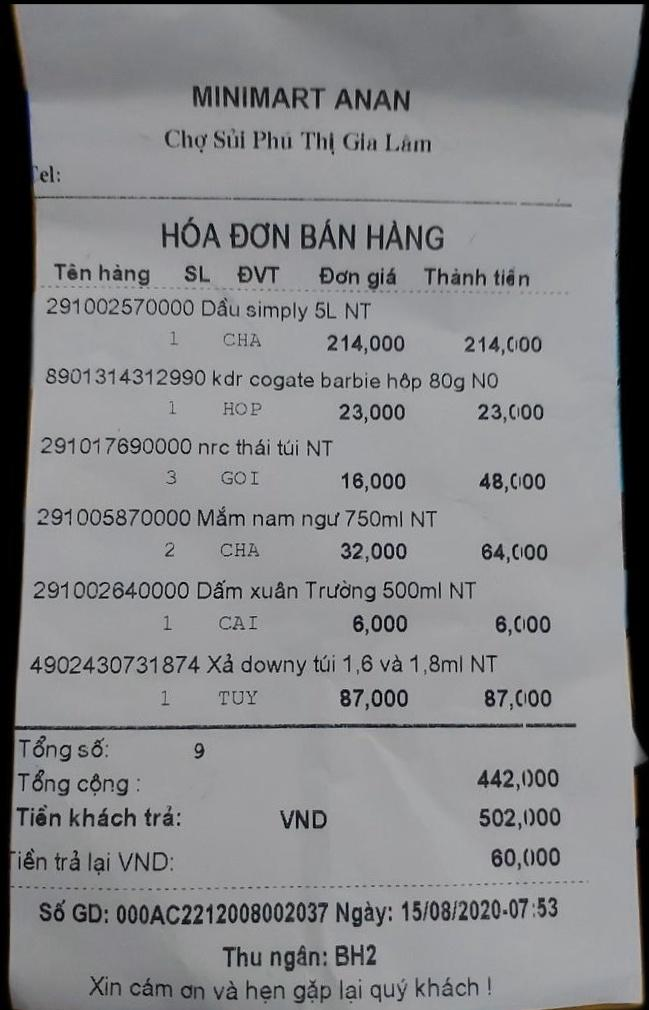Date: (393, 892, 506, 928)
Store_Name: (173, 53, 445, 118)
Total_Amount: (11, 760, 582, 798)
